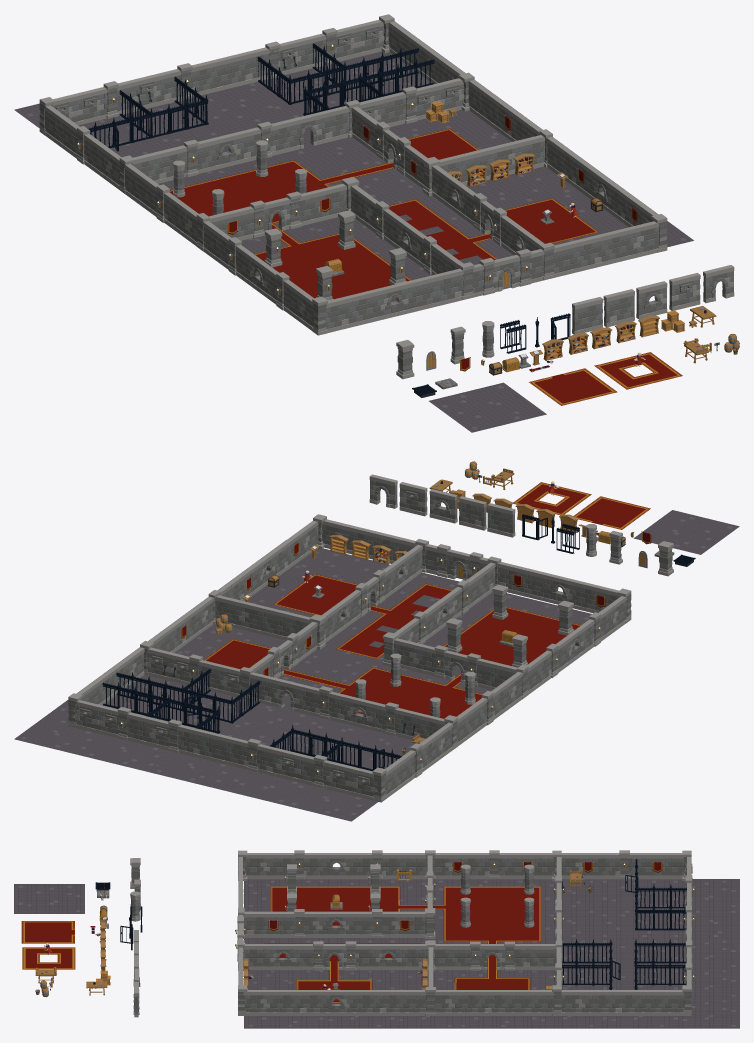
File: Dungeon-AssetPack.fbx
The picture shows the model from 3 angles, top to bottom: view 1: azimuth 30°, elevation 25°; view 2: azimuth 150°, elevation 25°; view 3: azimuth 270°, elevation 25°; orthographic projection. The views are drawn at different scales.
Visible parts, largest first — view 1: Plane.551, Plane.448, Plane.447, Plane.422, Plane.435, Plane.449, Plane.432, Plane.446, Plane.442, Plane.431, Cube.277, Plane.443 (+39 smaller); view 2: Plane.551, Plane.455, Plane.451, Plane.452, Plane.453, Plane.454, Plane.432, Plane.435, Plane.422, Plane.434, Plane.448, Plane.441 (+44 smaller); view 3: Plane.551, Plane.446, Plane.447, Plane.453, Plane.451, Plane.452, Plane.448, Plane.455, Plane.454, Plane.434, Plane.433, Plane.449 (+73 smaller).
Part boxes in pixels (x1,y1,x2,y2): Plane.551: (429,382,546,432); Plane.448: (208,86,313,130); Plane.447: (136,105,242,148); Plane.422: (303,150,412,193); Plane.435: (277,128,369,166); Plane.449: (283,68,391,110); Plane.432: (368,182,456,220); Plane.446: (91,124,167,157); Plane.442: (532,177,650,223); Plane.431: (273,217,375,242); Cube.277: (669,273,700,310); Plane.443: (508,145,606,195); Plane.551: (633,510,739,554); Plane.455: (14,711,107,755); Plane.451: (284,785,377,821); Plane.452: (217,769,310,804); Plane.453: (149,753,242,788); Plane.454: (82,736,175,771); Plane.432: (305,629,384,672); Plane.435: (228,693,314,730); Plane.422: (278,658,364,692); Plane.434: (296,716,381,746); Plane.448: (207,715,290,745); Plane.441: (248,540,353,581); Plane.551: (14,884,84,913); Plane.446: (598,879,668,908); Plane.447: (598,909,668,938); Plane.453: (669,938,739,968); Plane.451: (669,879,739,908); Plane.452: (669,909,739,938); Plane.448: (598,938,668,968); Plane.455: (669,998,739,1028); Plane.454: (669,968,739,998); Plane.434: (541,909,598,938); Plane.433: (533,879,598,908); Plane.449: (598,968,668,989).
Bounding box in the file's own units: 4074 × 363 × 8195.
